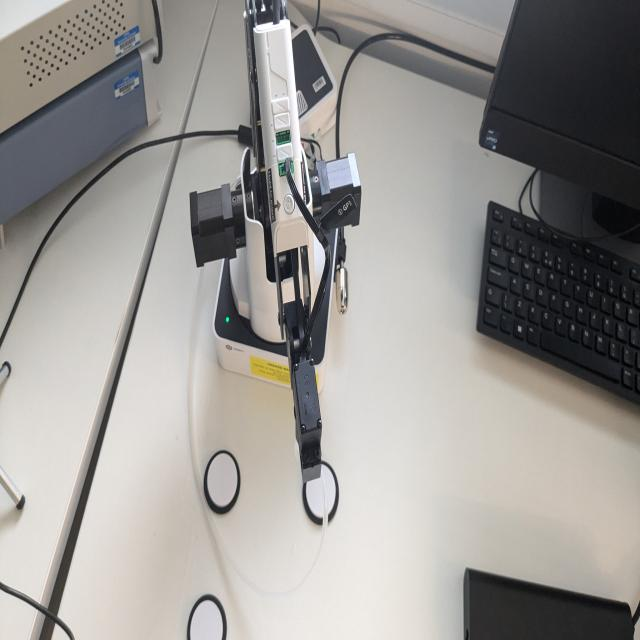Robot-end-effector-HF8z: (288, 349, 326, 486)
